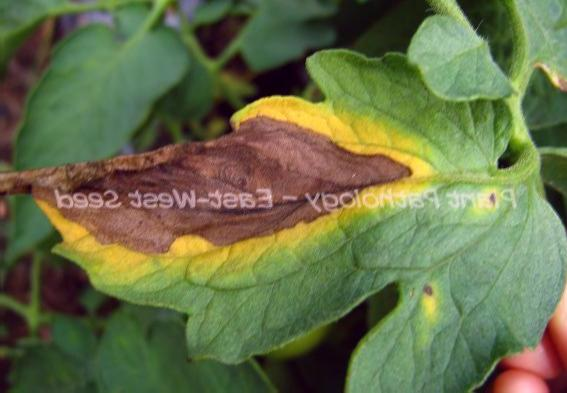Tomato Early blight leaf: (0, 34, 551, 382)
